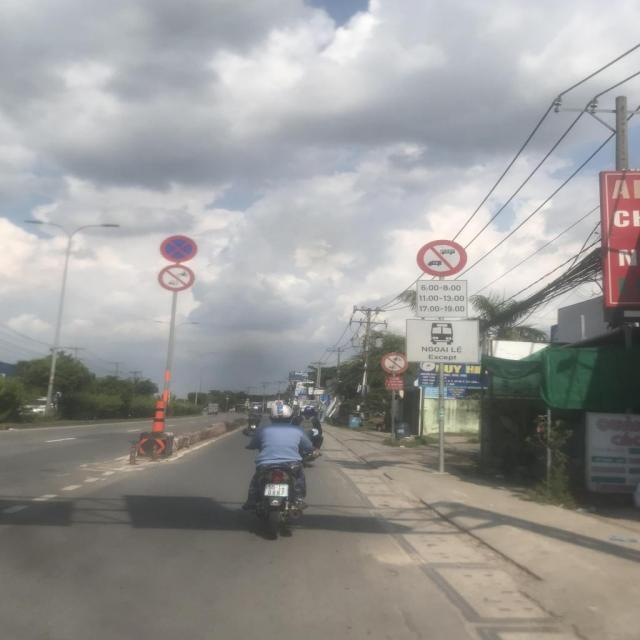107-cam-oto-khach-va-oto-tai: (416, 240, 467, 278)
130-cam-dung-va-do-xe: (158, 235, 197, 262)
